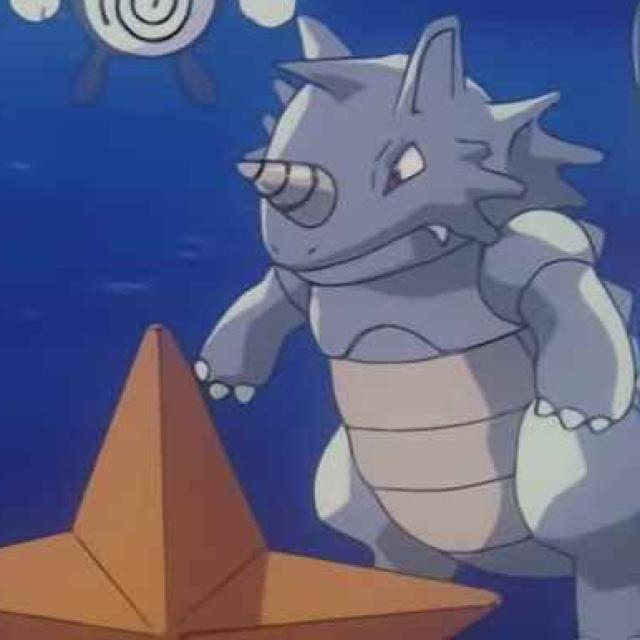Rhydon: (250, 20, 636, 552)
